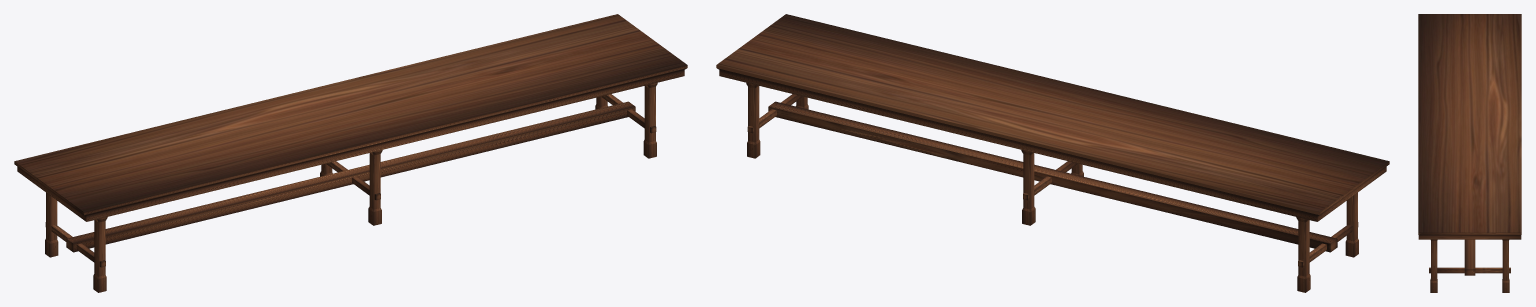
Rendered from tafel.fbx.
The picture shows the model from 3 angles, left to right: view 1: azimuth 30°, elevation 25°; view 2: azimuth 150°, elevation 25°; view 3: azimuth 270°, elevation 25°; orthographic projection. The views are drawn at different scales.
Visible parts, largest first — view 1: Cube.002, Cube.015, Cube.018, Cube.001, Cube.009, Cube.017; view 2: Cube.002, Cube.015, Cube.003, Cube.017, Cube.008, Cube.001; view 3: Cube.002, Cube.015, Cube.011, Cube.018, Cube.003.
Part boxes in pixels (left/top/right/bottom): Cube.002: left=14, top=14, right=687, bottom=221; Cube.015: left=66, top=101, right=635, bottom=252; Cube.018: left=643, top=82, right=657, bottom=158; Cube.001: left=93, top=217, right=107, bottom=292; Cube.009: left=368, top=150, right=382, bottom=225; Cube.017: left=45, top=192, right=58, bottom=257; Cube.002: left=716, top=14, right=1389, bottom=221; Cube.015: left=768, top=101, right=1337, bottom=252; Cube.003: left=746, top=82, right=760, bottom=158; Cube.017: left=1296, top=217, right=1310, bottom=292; Cube.008: left=1021, top=150, right=1035, bottom=225; Cube.001: left=1345, top=192, right=1358, bottom=257; Cube.002: left=1418, top=14, right=1521, bottom=239; Cube.015: left=1464, top=239, right=1475, bottom=275; Cube.011: left=1429, top=267, right=1510, bottom=273; Cube.018: left=1430, top=239, right=1437, bottom=292; Cube.003: left=1502, top=239, right=1509, bottom=292.
Bounding box in the file's own units: 1009 × 148 × 202.
